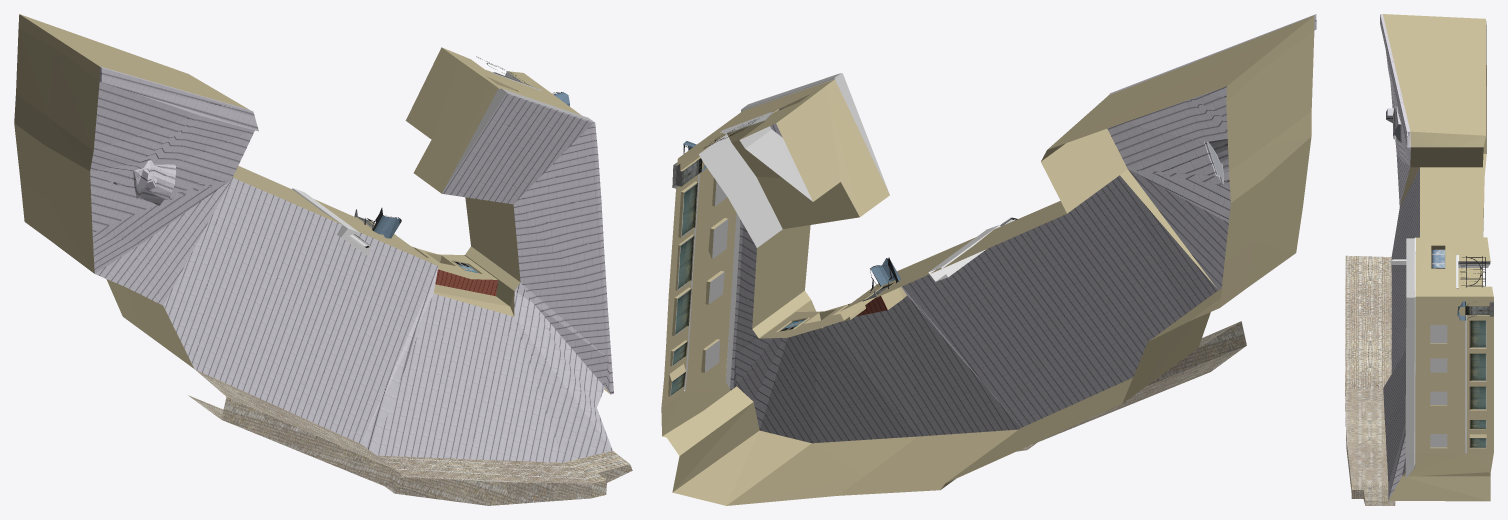
File: Ryytli_28-origo.obj
3 views of the same model, side by side, from view 1: azimuth 30°, elevation 25°; view 2: azimuth 150°, elevation 25°; view 3: azimuth 270°, elevation 25° (orthographic). The views are drawn at different scales.
Visible parts, largest first — view 1: Ryytli_28; view 2: Ryytli_28; view 3: Ryytli_28.
Part boxes in pixels (x1,y1,x2,y2): Ryytli_28: [14, 14, 632, 505]; Ryytli_28: [661, 14, 1316, 505]; Ryytli_28: [1345, 14, 1493, 505].
Bounding box in the file's own units: 38.75 × 36.5 × 14.66.
